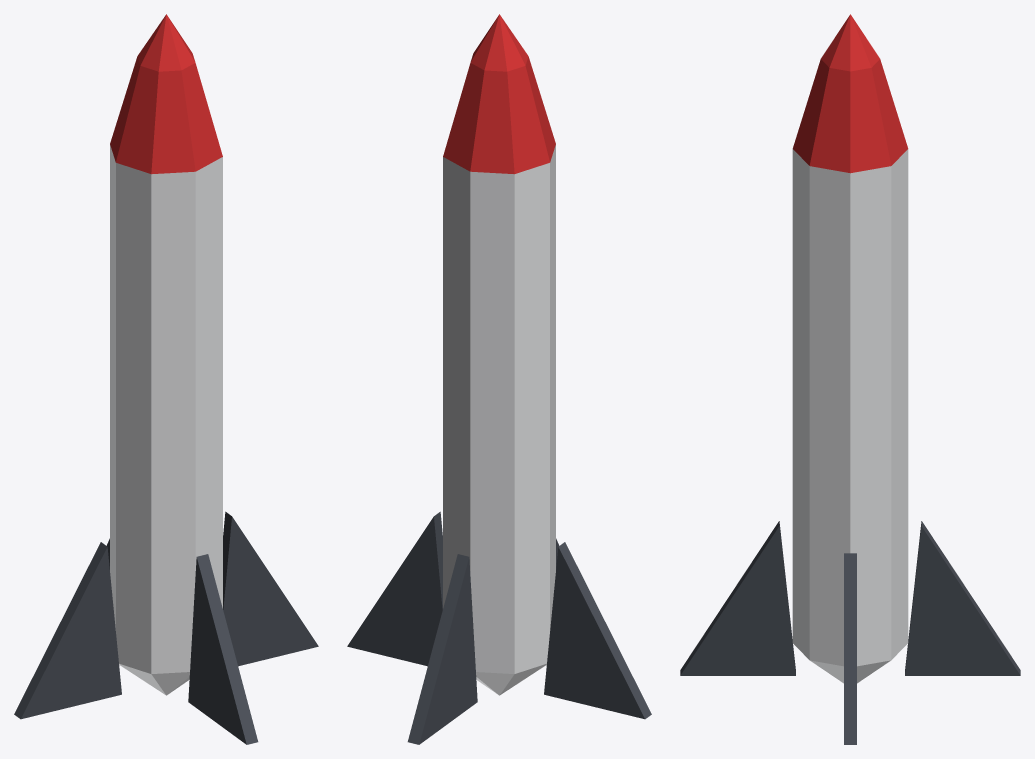
Rendered from Missile.fbx.
3 renders of one model, left to right at view 1: azimuth 30°, elevation 25°; view 2: azimuth 150°, elevation 25°; view 3: azimuth 270°, elevation 25°, orthographic.
Parts seen in each view (by area): view 1: Missile; view 2: Missile; view 3: Missile.
Part boxes in pixels (x1,y1,x2,y2): Missile: (14,14,318,744); Missile: (347,14,651,744); Missile: (680,14,1020,744).
Bounding box in the file's own units: 2.06 × 4.5 × 2.06.
Materials: 1 (1 with a texture image).
